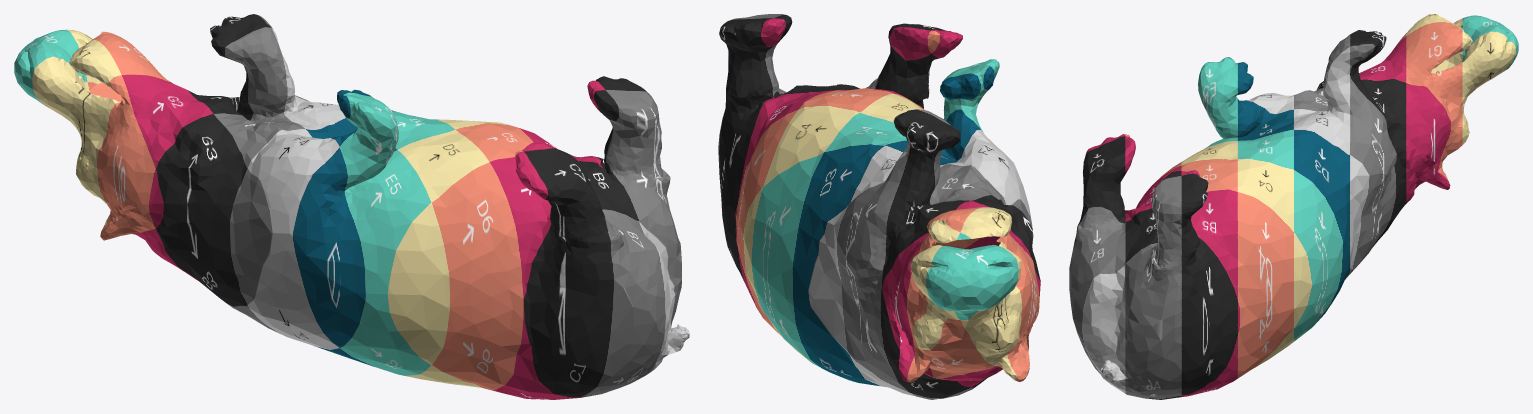
File: hippo_03.obj
3 views of the same model, side by side, from view 1: azimuth 30°, elevation 25°; view 2: azimuth 150°, elevation 25°; view 3: azimuth 270°, elevation 25° (orthographic). The views are drawn at different scales.
Visible parts, largest first — view 1: hippo_03_export; view 2: hippo_03_export; view 3: hippo_03_export.
Boxes of the visible parts, box(x1,y1,x2,y2) form: hippo_03_export: box(14, 14, 689, 399); hippo_03_export: box(718, 14, 1040, 399); hippo_03_export: box(1069, 14, 1518, 399).
Bounding box in the file's own units: 0.7165 × 0.4961 × 0.7299.
